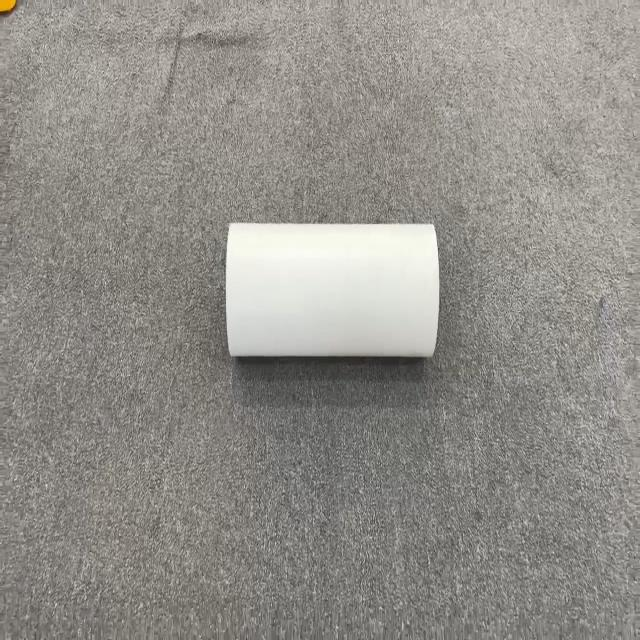coral: (224, 220, 440, 360)
